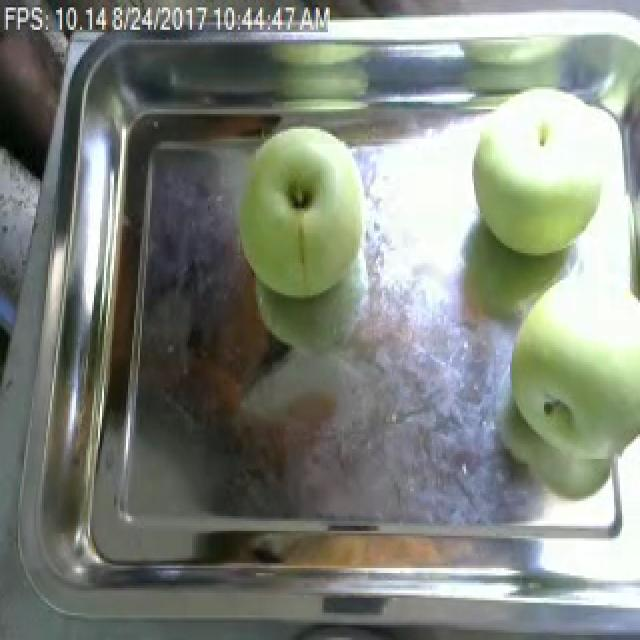50-_ripeness: (465, 87, 619, 257), (520, 263, 640, 456), (242, 135, 368, 292)
